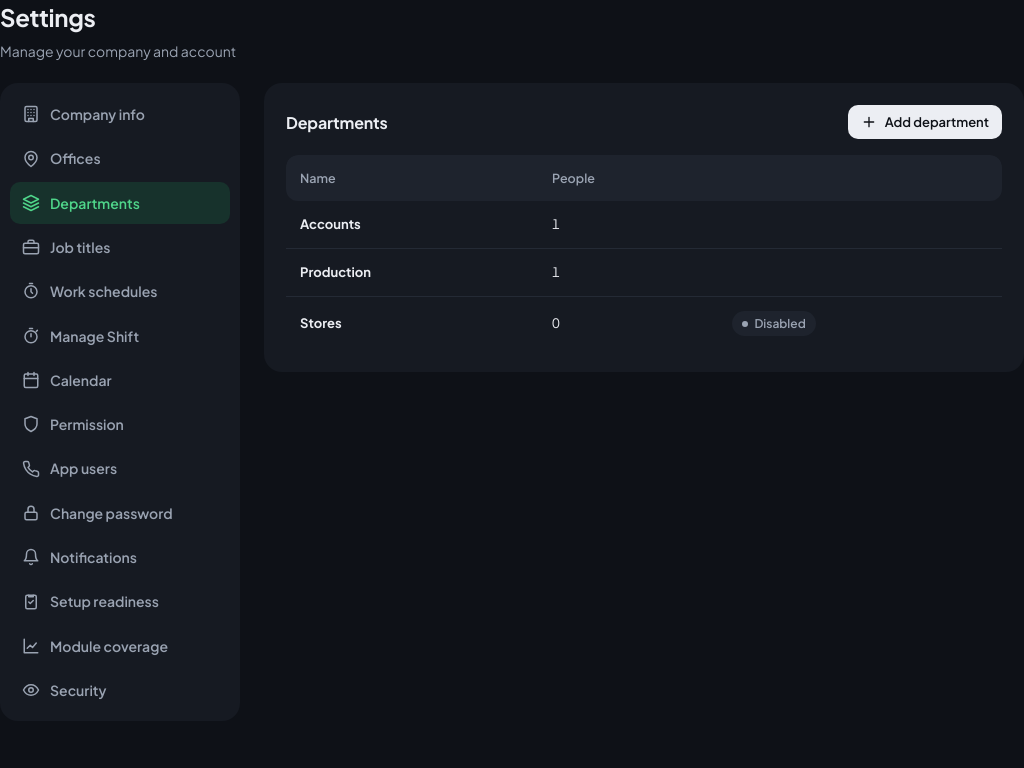
Scenario: Settings › shows the site's refusal of a department and keeps the form open
Click the button "Add department" at (925, 122), box [848, 105, 1002, 139]
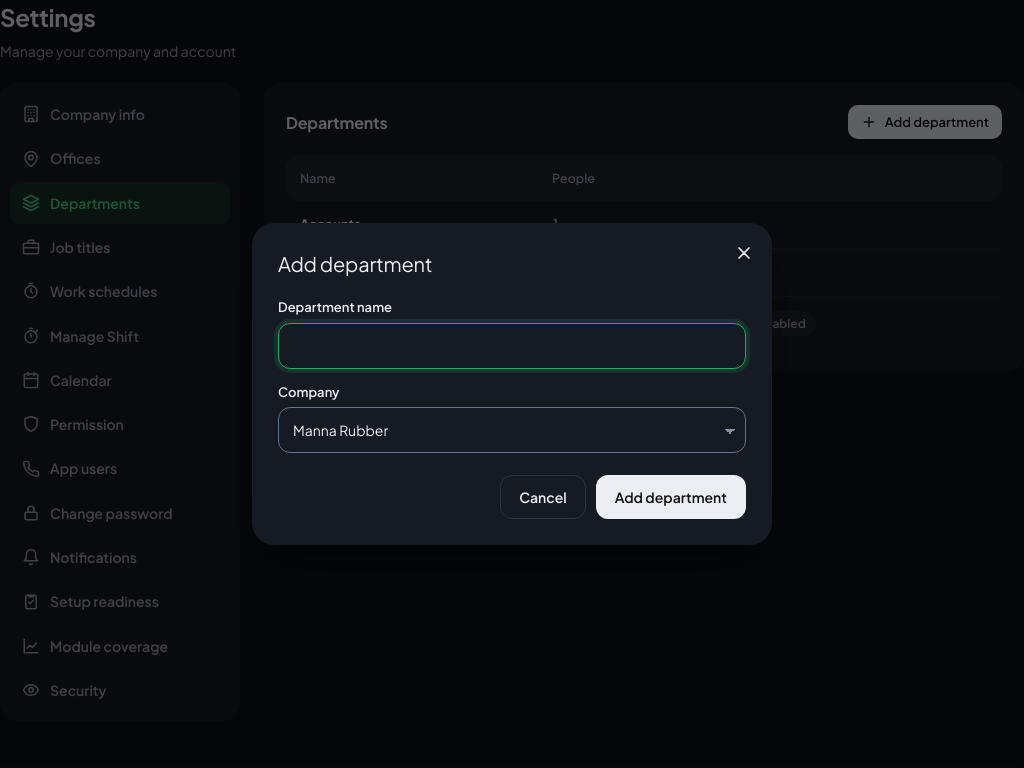
Type "Quality" into the field with id "dp-name" at (512, 346), box [278, 322, 746, 368]
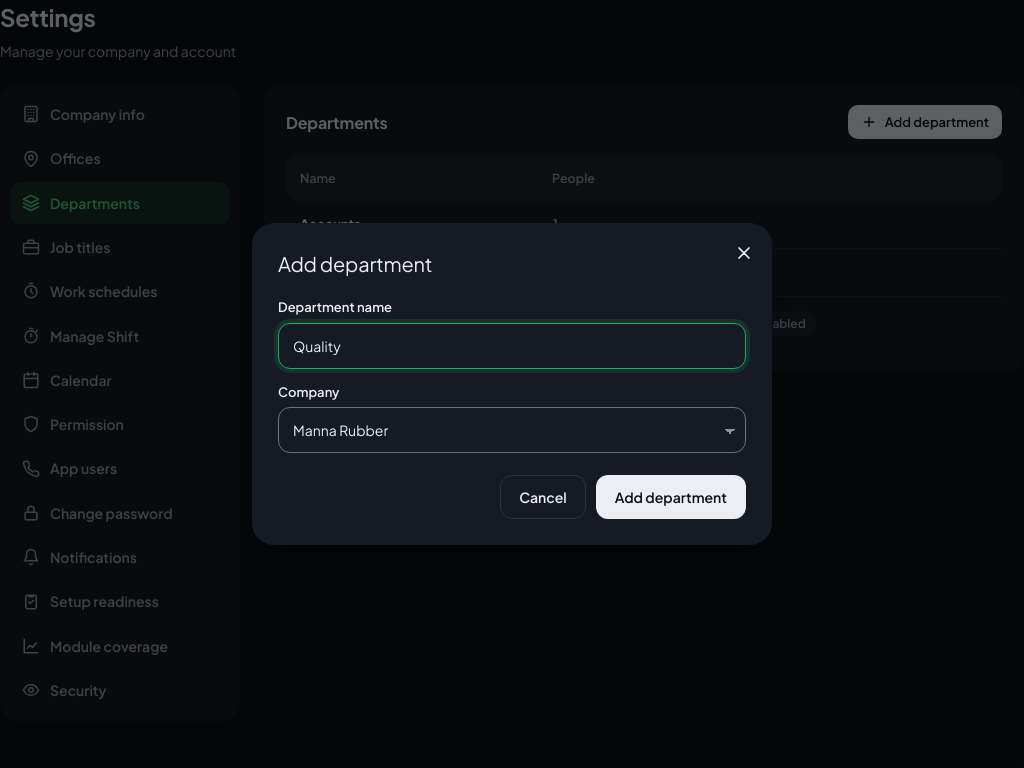
Submit the form with id "dp-name", box [278, 298, 746, 519]
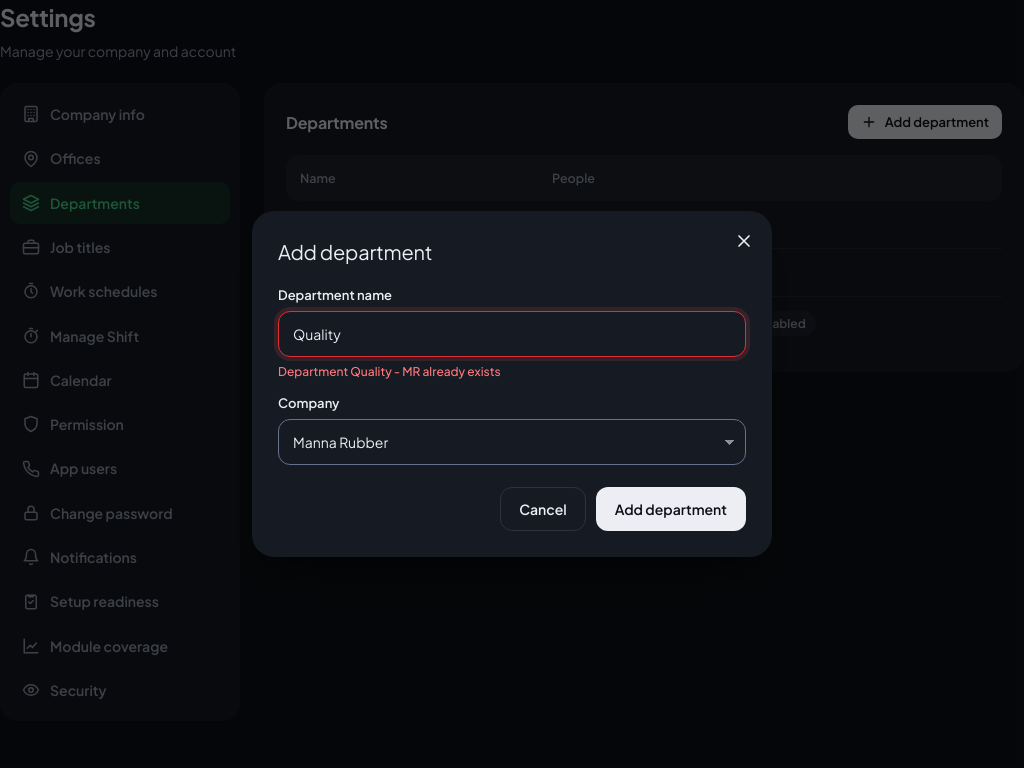
Expected: the text "already exists" is shown, [278, 364, 500, 379]
